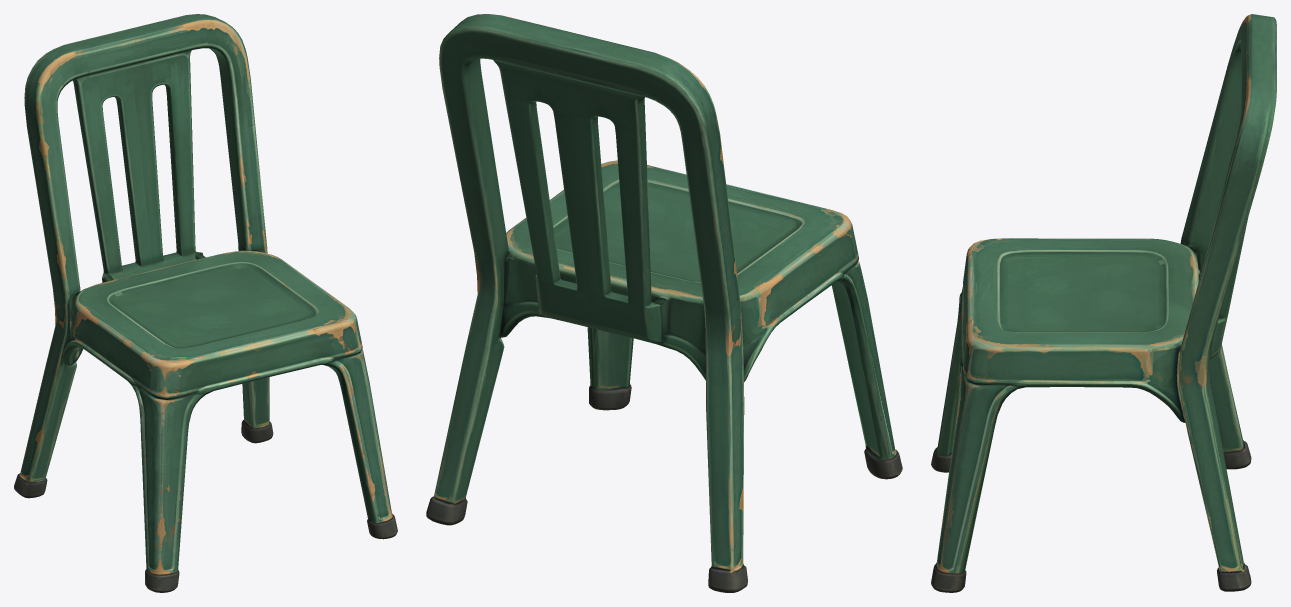
The model's file is P07_metal_chair_Runtime_1k.glb.
3 renders of one model, left to right at view 1: azimuth 30°, elevation 25°; view 2: azimuth 150°, elevation 25°; view 3: azimuth 270°, elevation 25°, orthographic. The views are drawn at different scales.
Visible parts, largest first — view 1: tripo_9fe9ae6e_5b05_4bb3_9790_b2ecf9c93a92; view 2: tripo_9fe9ae6e_5b05_4bb3_9790_b2ecf9c93a92; view 3: tripo_9fe9ae6e_5b05_4bb3_9790_b2ecf9c93a92.
Boxes of the visible parts, box(x1,y1,x2,y2) form: tripo_9fe9ae6e_5b05_4bb3_9790_b2ecf9c93a92: box(14, 14, 397, 592); tripo_9fe9ae6e_5b05_4bb3_9790_b2ecf9c93a92: box(426, 14, 902, 592); tripo_9fe9ae6e_5b05_4bb3_9790_b2ecf9c93a92: box(931, 14, 1276, 592).
Bounding box in the file's own units: 0.5286 × 0.85 × 0.5635.
1 material, 1 textured.
